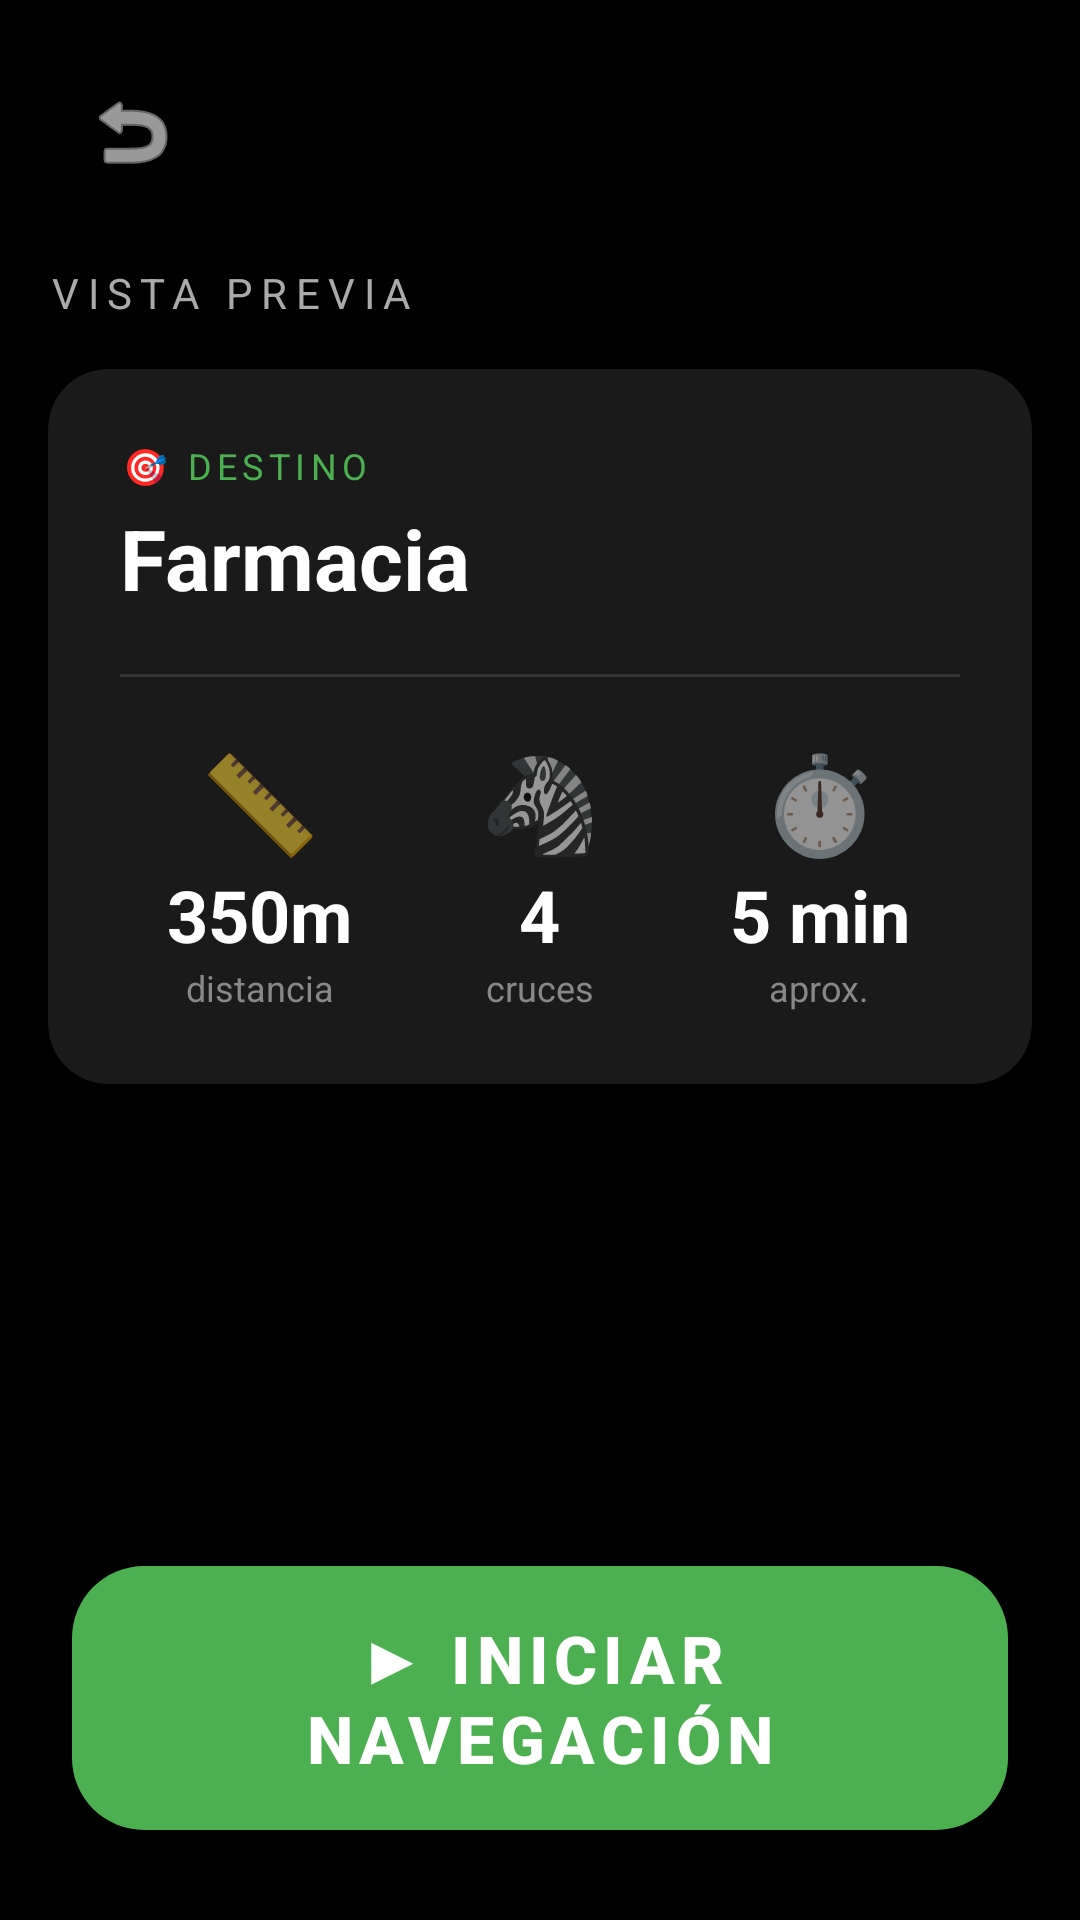

Named icons in this screenshot (1080x1920) and their bounding boxes, BBox(x1, y1, x2, y2):
Volver: BBox(99, 101, 168, 164)
